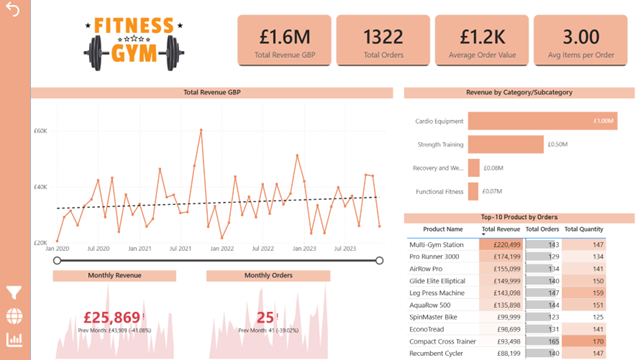

The page's visual inventory and layout, read from the dashboard file:
{"tool":"powerbi","page":{"name":"Page 1","canvas":[1280,720],"ordinal":0},"visuals":[{"type":"cardVisual","fields":{"Data":["Table Measures.Total Revenue GBP","Table Measures.Total Orders","Table Measures.Average Order Value","Table Measures.Avg Items per Order"]},"box":[467.7,25.4,789.2,113.1],"z":0},{"type":"lineChart","fields":{"Category":["date.date.Variation.Date Hierarchy.Year","date.date.Variation.Date Hierarchy.Quarter","date.date.Variation.Date Hierarchy.Month"],"Y":["Table Measures.Total Revenue GBP"]},"box":[63.6,175.5,719.1,354.5],"z":1000},{"type":"barChart","title":"Revenue by Category/Subcategory","fields":{"Category":["products.category_name Hierarchy.category_name","products.category_name Hierarchy.subcategory_name","date.date"],"Y":["Table Measures.Total Revenue GBP"]},"box":[804.6,175.6,457.8,249.8],"z":2000},{"type":"kpi","title":"Monthly Revenue","fields":{"Goal":["Table Measures.Previous Month Revenue"],"Indicator":["Table Measures.Total Revenue GBP"],"TrendLine":["date.Start of Month"]},"box":[107.3,539.3,245.4,180.8],"z":3000},{"type":"kpi","title":"Monthly Orders","fields":{"Goal":["Table Measures.Previous Month Orders"],"Indicator":["Table Measures.Total Orders"],"TrendLine":["date.Start of Month"]},"box":[412.2,539.3,246.2,180.8],"z":4000},{"type":"tableEx","title":"Top-10 Product by Revenue","fields":{"Values":["products.product_name","Table Measures.Total Revenue GBP","Table Measures.Total Orders","Table Measures.Total Quantity"]},"box":[804.6,425.4,457.8,294.6],"z":5000},{"type":"image","box":[94.6,0,347.7,175.4],"z":6000},{"type":"shape","box":[0,0,63.5,720.1],"z":7000},{"type":"actionButton","box":[7.3,0,100,40],"z":8000},{"type":"actionButton","title":"Open sel","box":[10.8,564.6,40.8,38.5],"z":9000},{"type":"actionButton","box":[10.8,610,40.8,40],"z":11000},{"type":"actionButton","box":[10.8,656.9,40.8,40],"z":12000}]}

Visuals, with their boxes in screenshot pixels (x1, y1, x2, y2), scaled from the page's 1280x720 canvas onto the 643x360 screenshot:
cardVisual - Table Measures.Total Revenue GBP x Table Measures.Total Orders: BBox(235, 13, 631, 69)
lineChart - date.date.Variation.Date Hierarchy.Year x date.date.Variation.Date Hierarchy.Quarter: BBox(32, 88, 393, 265)
"Revenue by Category/Subcategory" barChart: BBox(404, 88, 634, 213)
"Monthly Revenue" kpi: BBox(54, 270, 177, 359)
"Monthly Orders" kpi: BBox(207, 270, 331, 359)
"Top-10 Product by Revenue" tableEx: BBox(404, 213, 634, 359)
image: BBox(48, 0, 222, 88)
shape: BBox(0, 0, 32, 359)
actionButton: BBox(4, 0, 54, 20)
"Open sel" actionButton: BBox(5, 282, 26, 302)
actionButton: BBox(5, 305, 26, 325)
actionButton: BBox(5, 328, 26, 348)
